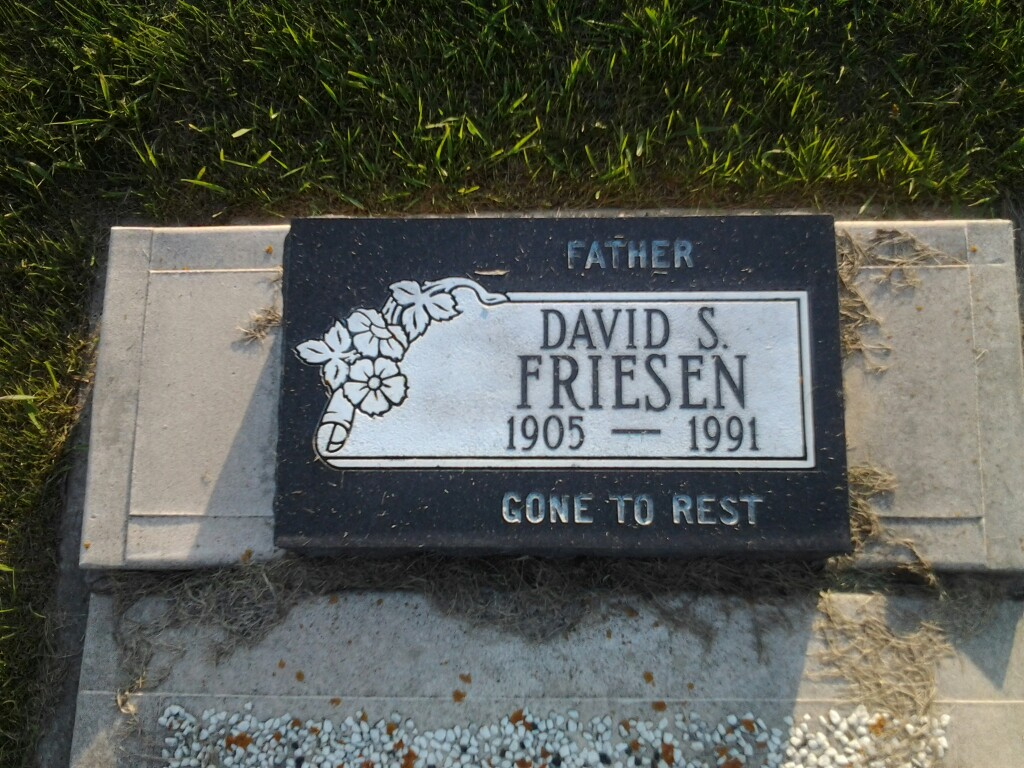flat: (91, 193, 1017, 575)
